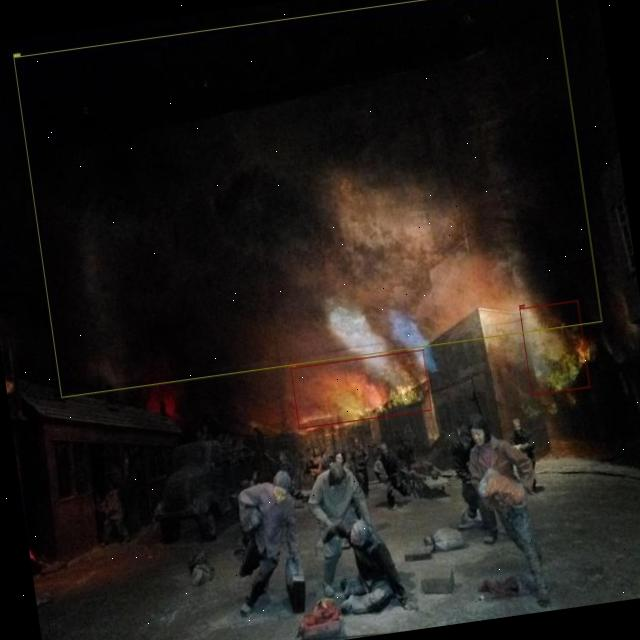fire: (290, 349, 432, 429), (519, 300, 590, 395)
smoke: (13, 0, 602, 398)
